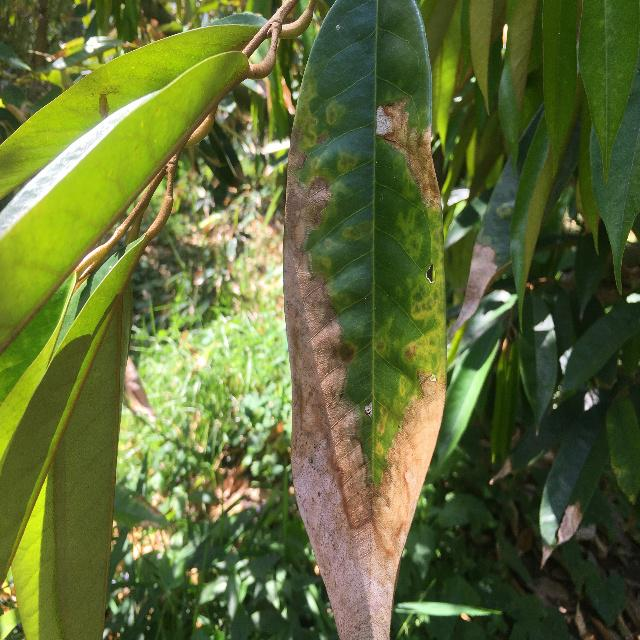Leaf Blight: (275, 0, 458, 639)
